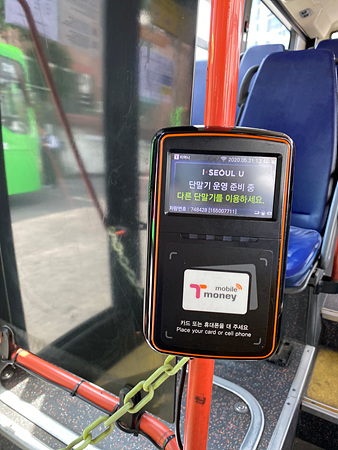terminal: (146, 126, 282, 357)
